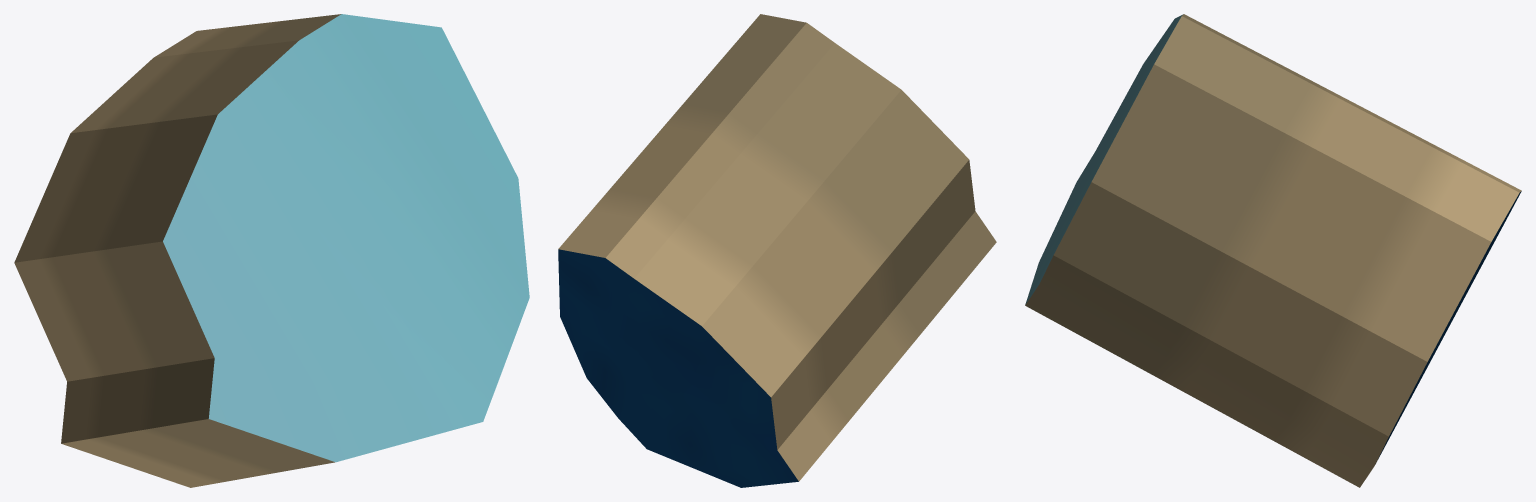
File: 0669_Iceland.glb
The picture shows the model from 3 angles, left to right: view 1: azimuth 30°, elevation 25°; view 2: azimuth 150°, elevation 25°; view 3: azimuth 270°, elevation 25°; orthographic projection. The views are drawn at different scales.
Visible parts, largest first — view 1: part_0; view 2: part_0; view 3: part_0.
Boxes of the visible parts, x1,y1,x2,y2 form: part_0: (14, 14, 529, 487); part_0: (558, 14, 996, 487); part_0: (1025, 14, 1521, 487).
Size of the model in its own units: 0.1884 by 0.2541 by 0.2605.
1 material, 1 textured.
